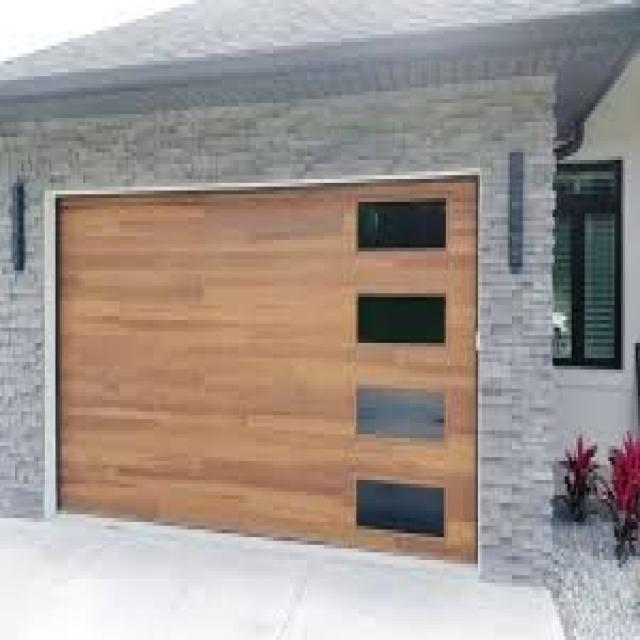door: (52, 175, 479, 564)
